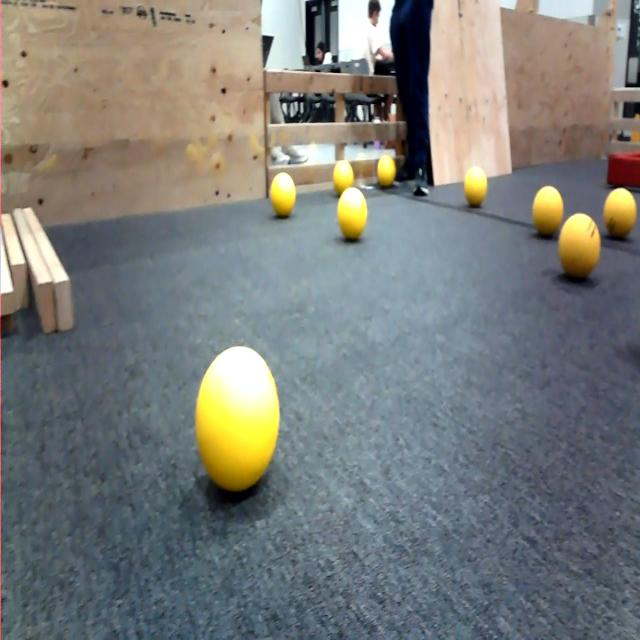Bumper: (600, 139, 640, 203)
fuel: (194, 340, 285, 498), (556, 206, 604, 282), (335, 184, 373, 244), (531, 174, 564, 242), (266, 166, 302, 222), (600, 190, 636, 240), (457, 164, 489, 209), (370, 150, 400, 188), (330, 158, 356, 190)
